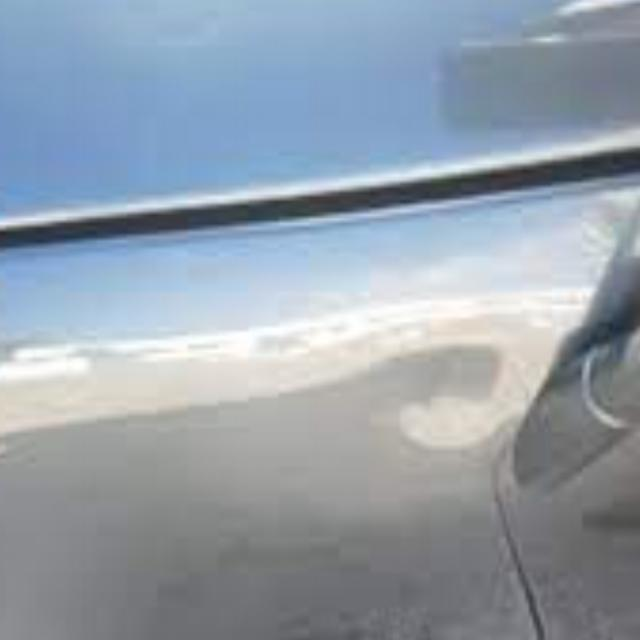dents: (368, 306, 546, 492)
